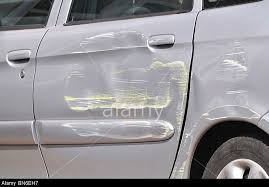Dent: (68, 37, 188, 139)
Scratch: (219, 38, 250, 97)
